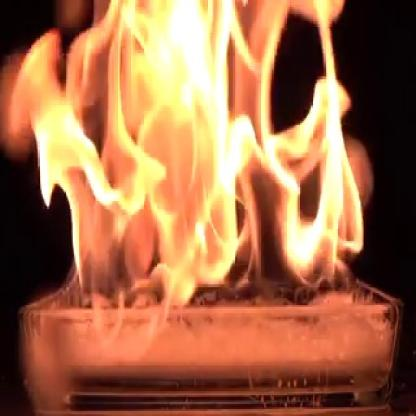fire: (4, 0, 372, 314)
